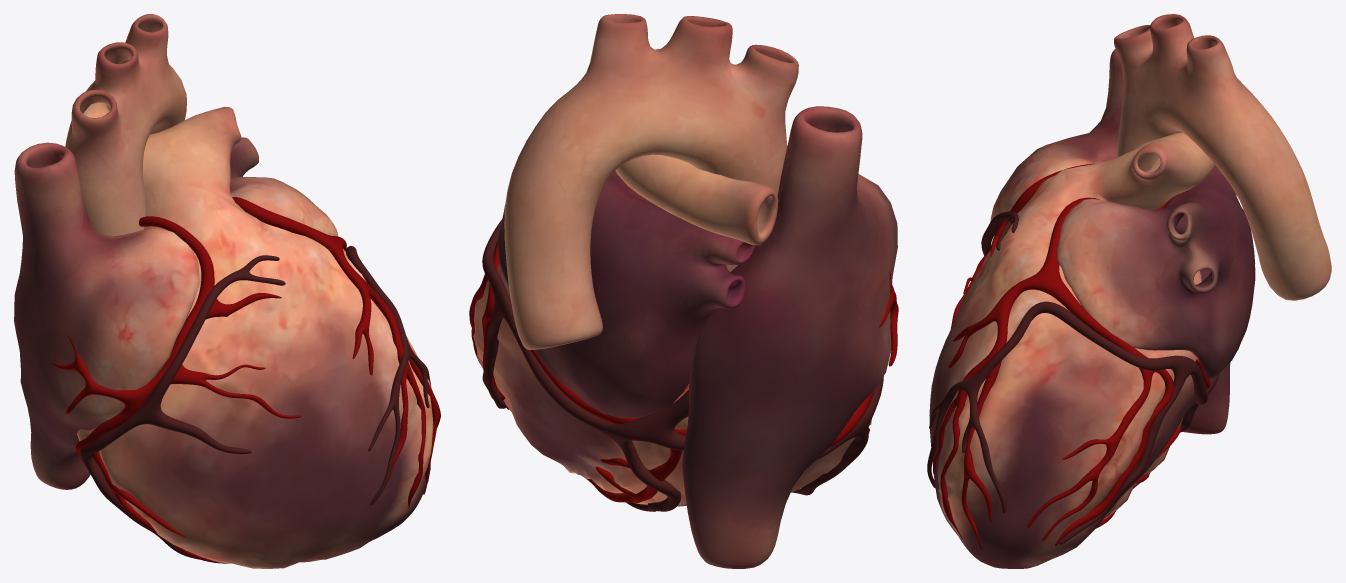
Rendered from AnimHeart_optimized.glb.
3 views of the same model, side by side, from view 1: azimuth 30°, elevation 25°; view 2: azimuth 150°, elevation 25°; view 3: azimuth 270°, elevation 25° (orthographic). The views are drawn at different scales.
Visible parts, largest first — view 1: 1, 3, 4, 5, 6, 2; view 2: 3, 4, 2, 1, 6, 5; view 3: 1, 2, 4, 5, 6, 3.
Part boxes in pixels (x1,y1,x2,y2): 1: [77, 106, 433, 568]; 3: [14, 142, 199, 489]; 4: [65, 14, 186, 236]; 5: [51, 197, 440, 563]; 6: [80, 246, 431, 559]; 2: [230, 137, 338, 236]; 3: [682, 106, 897, 568]; 4: [504, 14, 798, 349]; 2: [497, 170, 754, 418]; 1: [473, 81, 871, 506]; 6: [482, 219, 883, 511]; 5: [469, 239, 898, 502]; 1: [929, 132, 1215, 568]; 2: [1057, 165, 1255, 379]; 4: [1114, 14, 1331, 300]; 5: [933, 163, 1210, 548]; 6: [927, 211, 1218, 544]; 3: [990, 49, 1230, 434].
Bounding box in the file's own units: 2.17 × 2.86 × 2.19.
6 materials, 4 textured.
